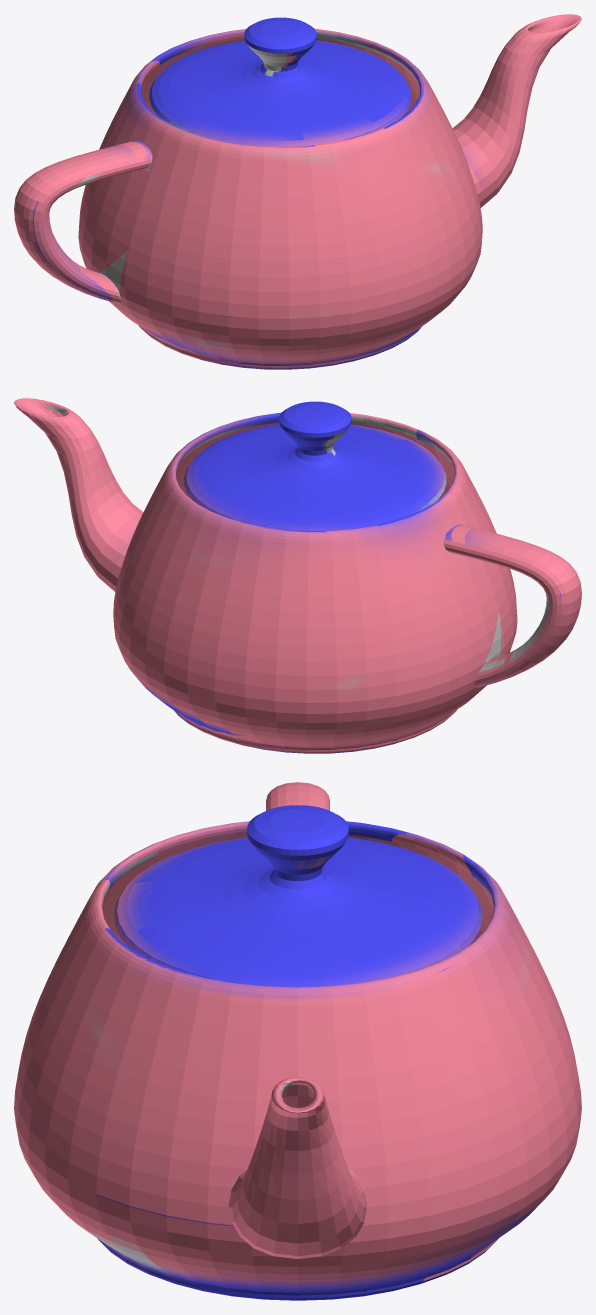
The model's file is teapot.glb.
3 renders of one model, top to bottom at view 1: azimuth 30°, elevation 25°; view 2: azimuth 150°, elevation 25°; view 3: azimuth 270°, elevation 25°, orthographic. The views are drawn at different scales.
Visible parts, largest first — view 1: teapot; view 2: teapot; view 3: teapot.
Part boxes in pixels (<box>): teapot: <box>14,14,581,369</box>; teapot: <box>14,398,581,753</box>; teapot: <box>14,782,581,1300</box>.
Bounding box in the file's own units: 6.43 × 3.15 × 4.
1 material, 1 textured.
